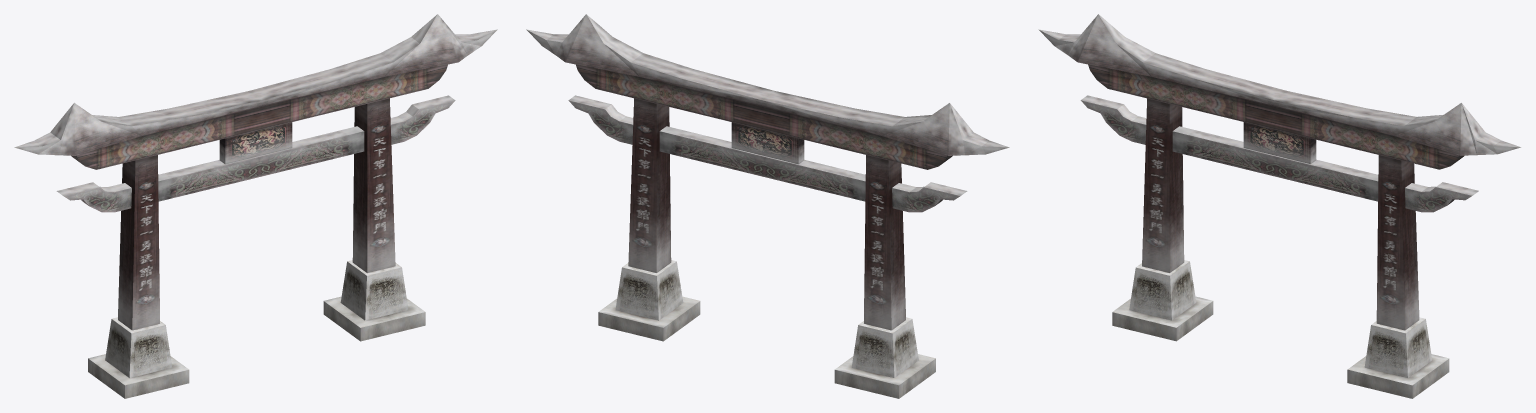
Rendered from snow-035-woodgate.glb.
3 renders of one model, left to right at view 1: azimuth 30°, elevation 25°; view 2: azimuth 150°, elevation 25°; view 3: azimuth 330°, elevation 25°, orthographic.
Visible parts, largest first — view 1: snow-035-woodgate; view 2: snow-035-woodgate; view 3: snow-035-woodgate.
Boxes of the visible parts, bbox=[...] form: snow-035-woodgate: bbox=[14, 14, 497, 398]; snow-035-woodgate: bbox=[526, 14, 1009, 398]; snow-035-woodgate: bbox=[1038, 14, 1520, 398].
Size of the model in its own units: 14.4 by 8.27 by 1.91.
1 material, 1 textured.
